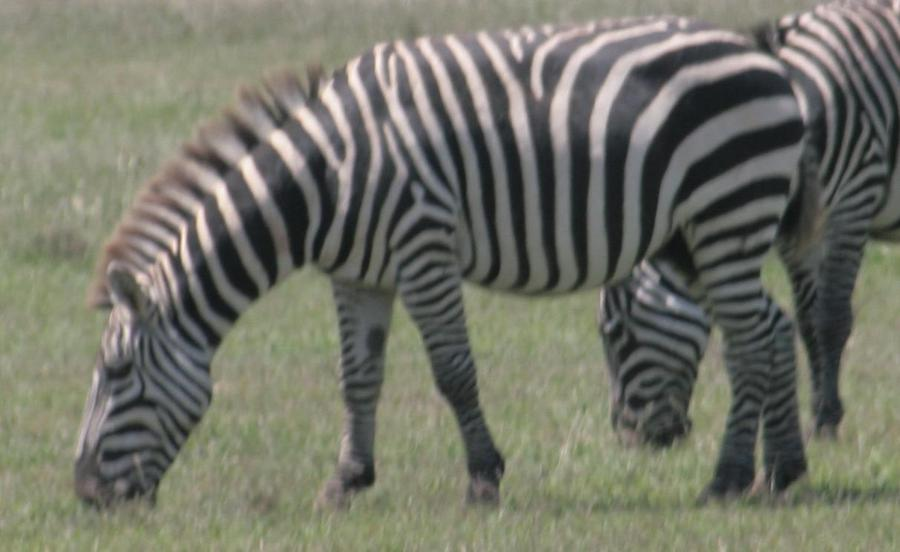zebra_plains: (275, 21, 842, 377)
